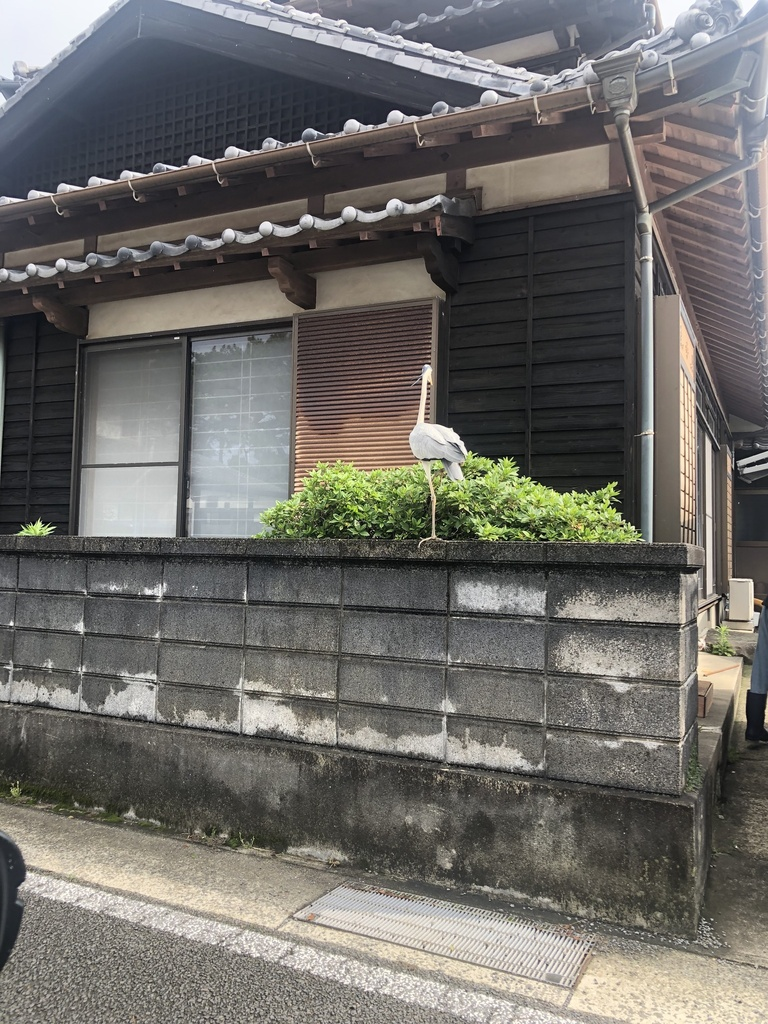heron: (403, 360, 473, 549)
